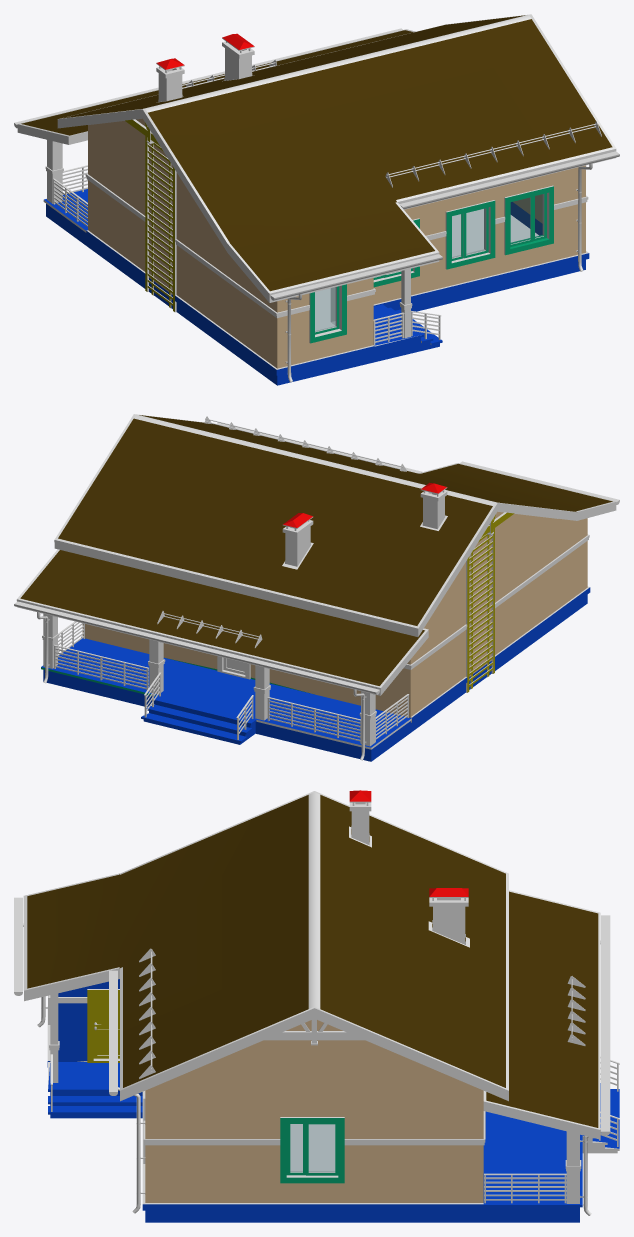
The model's file is house.fbx.
3 views of the same model, one above another, from view 1: azimuth 30°, elevation 25°; view 2: azimuth 150°, elevation 25°; view 3: azimuth 270°, elevation 25° (orthographic). The views are drawn at different scales.
Visible parts, largest first — view 1: Cottage_Free; view 2: Cottage_Free; view 3: Cottage_Free.
Part boxes in pixels (x1,y1,x2,y2): Cottage_Free: [14, 14, 619, 385]; Cottage_Free: [14, 414, 619, 761]; Cottage_Free: [14, 790, 619, 1222].
Bounding box in the file's own units: 124 × 67.53 × 147.
